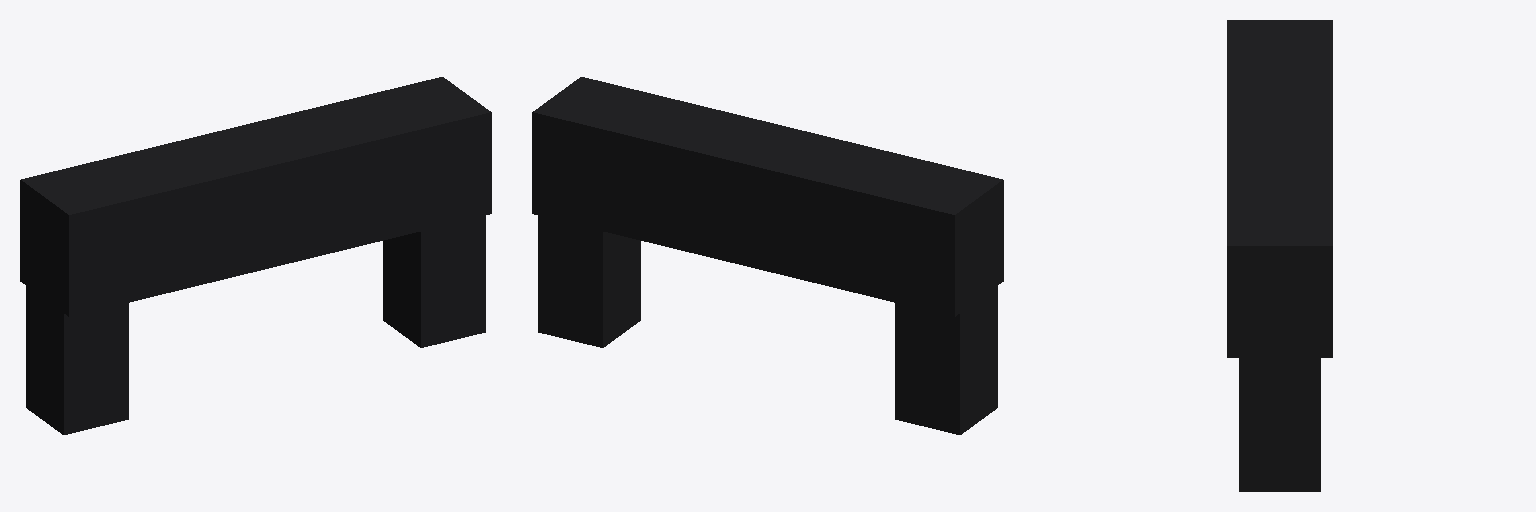
robot.urdf — kettle:
<?xml version="1.0"?>
<robot name="kettle"><link name="kettle"><inertial><origin xyz="0.0000 0.0000 0.0750"/><mass value="0.3"/><inertia ixx="0.001125" ixy="0" ixz="0" iyy="0.001125" iyz="0" izz="0.001125"/></inertial><collision name="bottom"><origin xyz="0.00000 0.00000 0.00500" rpy="0.00000 0.00000 0.00000"/><geometry><box size="0.14700 0.14700 0.01000"/></geometry></collision><collision name="lid"><origin xyz="0.00000 0.00000 0.14500" rpy="0.00000 0.00000 0.00000"/><geometry><box size="0.14700 0.14700 0.01000"/></geometry></collision><collision name="wall0_0"><origin xyz="0.07000 0.00000 0.01000" rpy="0.00000 0.00000 0.00000"/><geometry><box size="0.01000 0.03829 0.02000"/></geometry></collision><collision name="wall0_1"><origin xyz="0.07000 0.00000 0.11250" rpy="0.00000 0.00000 0.00000"/><geometry><box size="0.01000 0.03829 0.07500"/></geometry></collision><collision name="wall1_0"><origin xyz="0.06467 0.02679 0.07500" rpy="0.00000 0.00000 0.39270"/><geometry><box size="0.01000 0.03829 0.15000"/></geometry></collision><collision name="wall2_0"><origin xyz="0.04950 0.04950 0.07500" rpy="0.00000 0.00000 0.78540"/><geometry><box size="0.01000 0.03829 0.15000"/></geometry></collision><collision name="wall3_0"><origin xyz="0.02679 0.06467 0.07500" rpy="0.00000 0.00000 1.17810"/><geometry><box size="0.01000 0.03829 0.15000"/></geometry></collision><collision name="wall4_0"><origin xyz="0.00000 0.07000 0.07500" rpy="0.00000 0.00000 1.57080"/><geometry><box size="0.01000 0.03829 0.15000"/></geometry></collision><collision name="wall5_0"><origin xyz="-0.02679 0.06467 0.07500" rpy="0.00000 0.00000 1.96350"/><geometry><box size="0.01000 0.03829 0.15000"/></geometry></collision><collision name="wall6_0"><origin xyz="-0.04950 0.04950 0.07500" rpy="0.00000 0.00000 2.35619"/><geometry><box size="0.01000 0.03829 0.15000"/></geometry></collision><collision name="wall7_0"><origin xyz="-0.06467 0.02679 0.07500" rpy="0.00000 0.00000 2.74889"/><geometry><box size="0.01000 0.03829 0.15000"/></geometry></collision><collision name="wall8_0"><origin xyz="-0.07000 0.00000 0.07500" rpy="0.00000 0.00000 3.14159"/><geometry><box size="0.01000 0.03829 0.15000"/></geometry></collision><collision name="wall9_0"><origin xyz="-0.06467 -0.02679 0.07500" rpy="0.00000 0.00000 3.53429"/><geometry><box size="0.01000 0.03829 0.15000"/></geometry></collision><collision name="wall10_0"><origin xyz="-0.04950 -0.04950 0.07500" rpy="0.00000 0.00000 3.92699"/><geometry><box size="0.01000 0.03829 0.15000"/></geometry></collision><collision name="wall11_0"><origin xyz="-0.02679 -0.06467 0.07500" rpy="0.00000 0.00000 4.31969"/><geometry><box size="0.01000 0.03829 0.15000"/></geometry></collision><collision name="wall12_0"><origin xyz="-0.00000 -0.07000 0.07500" rpy="0.00000 0.00000 4.71239"/><geometry><box size="0.01000 0.03829 0.15000"/></geometry></collision><collision name="wall13_0"><origin xyz="0.02679 -0.06467 0.07500" rpy="0.00000 0.00000 5.10509"/><geometry><box size="0.01000 0.03829 0.15000"/></geometry></collision><collision name="wall14_0"><origin xyz="0.04950 -0.04950 0.07500" rpy="0.00000 0.00000 5.49779"/><geometry><box size="0.01000 0.03829 0.15000"/></geometry></collision><collision name="wall15_0"><origin xyz="0.06467 -0.02679 0.07500" rpy="0.00000 0.00000 5.89049"/><geometry><box size="0.01000 0.03829 0.15000"/></geometry></collision><collision name="sp_bot"><origin xyz="0.09977 0.00000 0.03688" rpy="0.00000 -0.66323 0.00000"/><geometry><box size="0.06500 0.06000 0.01000"/></geometry></collision><collision name="sp_top"><origin xyz="0.07145 0.00000 0.07313" rpy="0.00000 -0.66323 0.00000"/><geometry><box size="0.06500 0.06000 0.01000"/></geometry></collision><collision name="sp_l"><origin xyz="0.08561 0.02500 0.05501" rpy="0.00000 -0.66323 0.00000"/><geometry><box size="0.06500 0.01000 0.03600"/></geometry></collision><collision name="sp_r"><origin xyz="0.08561 -0.02500 0.05501" rpy="0.00000 -0.66323 0.00000"/><geometry><box size="0.06500 0.01000 0.03600"/></geometry></collision><visual name="post0"><origin xyz="-0.05500 0.00000 0.16750" rpy="0.00000 0.00000 0.00000"/><geometry><box size="0.02000 0.02000 0.03700"/></geometry><material name="m_post0"><color rgba="0.150 0.150 0.160 1.000"/></material></visual><collision name="post0"><origin xyz="-0.05500 0.00000 0.16750" rpy="0.00000 0.00000 0.00000"/><geometry><box size="0.02000 0.02000 0.03700"/></geometry></collision><visual name="post1"><origin xyz="0.05500 0.00000 0.16750" rpy="0.00000 0.00000 0.00000"/><geometry><box size="0.02000 0.02000 0.03700"/></geometry><material name="m_post1"><color rgba="0.150 0.150 0.160 1.000"/></material></visual><collision name="post1"><origin xyz="0.05500 0.00000 0.16750" rpy="0.00000 0.00000 0.00000"/><geometry><box size="0.02000 0.02000 0.03700"/></geometry></collision><visual name="handle"><origin xyz="0.00000 0.00000 0.20000" rpy="0.00000 0.00000 0.00000"/><geometry><box size="0.13000 0.02600 0.03000"/></geometry><material name="m_handle"><color rgba="0.150 0.150 0.160 1.000"/></material></visual><collision name="handle"><origin xyz="0.00000 0.00000 0.20000" rpy="0.00000 0.00000 0.00000"/><geometry><box size="0.13000 0.02600 0.03000"/></geometry></collision><visual name="body_vis"><origin xyz="0.00000 0.00000 0.00000" rpy="0.00000 0.00000 0.00000"/><geometry><mesh filename="D:/NLP/Robotics/VLM_Robotics/language-models-trajectory-generators/sim_envs/assets/kettle_mug/kettle_body.obj"/></geometry><material name="m_body_vis"><color rgba="0.820 0.840 0.860 1.000"/></material></visual><visual name="spout_vis"><origin xyz="0.00000 0.00000 0.00000" rpy="0.00000 0.00000 0.00000"/><geometry><mesh filename="D:/NLP/Robotics/VLM_Robotics/language-models-trajectory-generators/sim_envs/assets/kettle_mug/kettle_spout.obj"/></geometry><material name="m_spout_vis"><color rgba="0.820 0.840 0.860 1.000"/></material></visual></link></robot>

--- Render facts (derived) ---
Views: 3 orthographic renders of the robot side by side, from view 1: azimuth 30°, elevation 25°; view 2: azimuth 150°, elevation 25°; view 3: azimuth 270°, elevation 25°.
Robot: kettle — 1 links, 0 joints (none); root link kettle; default pose: all joints at 0.
Visible links, largest first — view 1: kettle; view 2: kettle; view 3: kettle.
Boxes of the visible links, x1,y1,x2,y2 form: kettle: (20, 77, 491, 434); kettle: (532, 77, 1003, 434); kettle: (1227, 20, 1332, 491).
Size in the robot's own frame: 0.13 by 0.026 by 0.066 metres.
Geometry: only primitive shapes (box / cylinder / sphere) drawn; not drawn: 2 mesh visuals (reference in a form the renderer does not follow).
